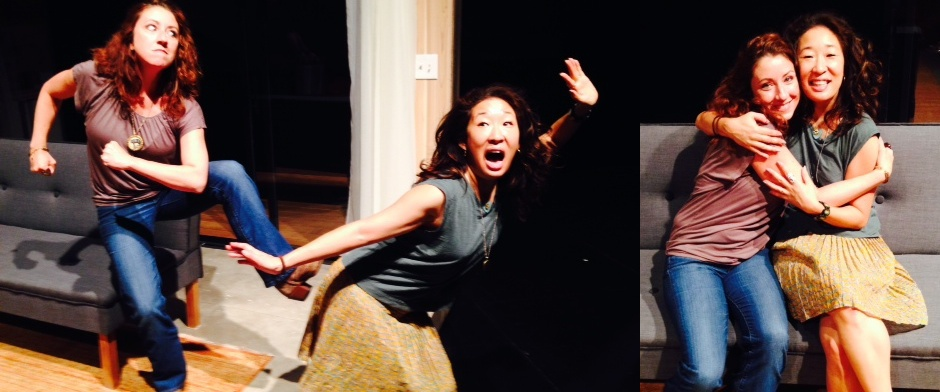bad: (135, 9, 187, 61), (792, 44, 844, 95), (469, 113, 521, 164), (751, 67, 803, 118)
